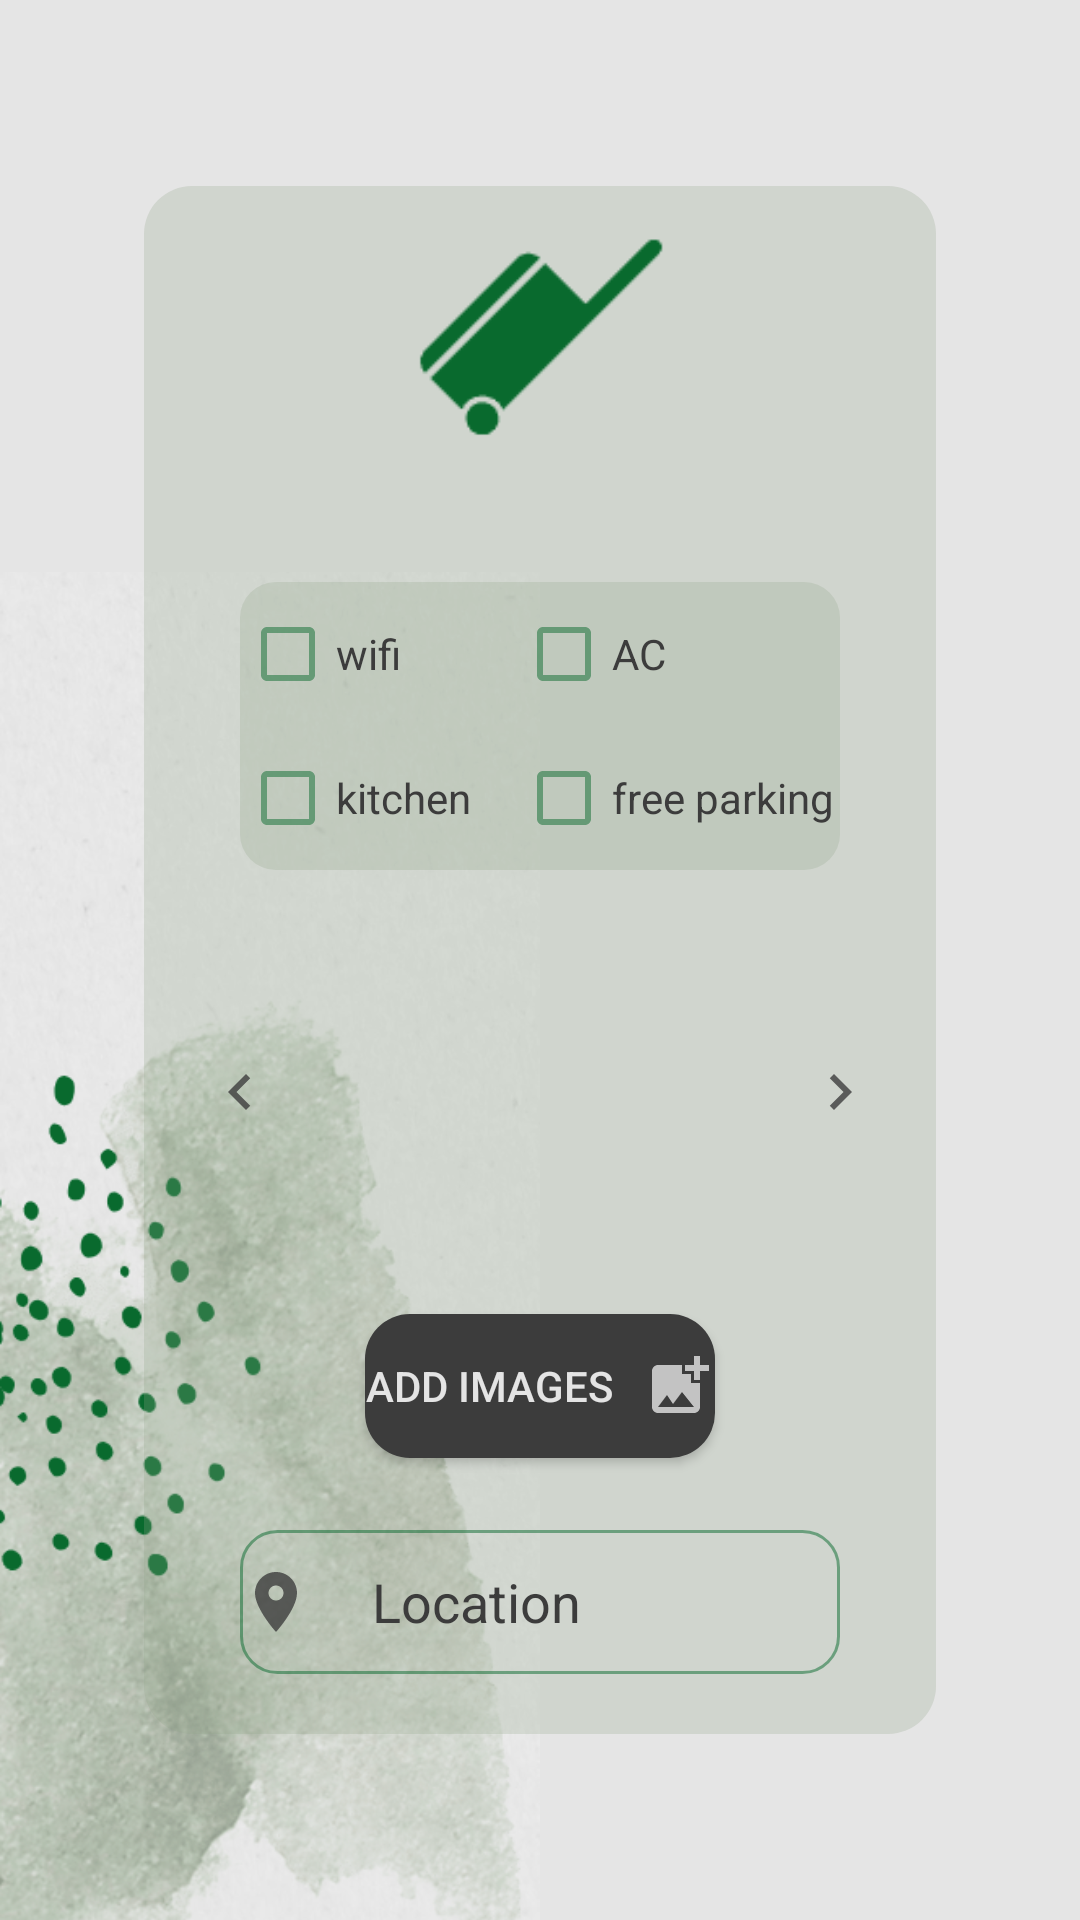

Where to tap for icons on this 1080x1920 app screen, as (x,y):
next image: (841,1092)
